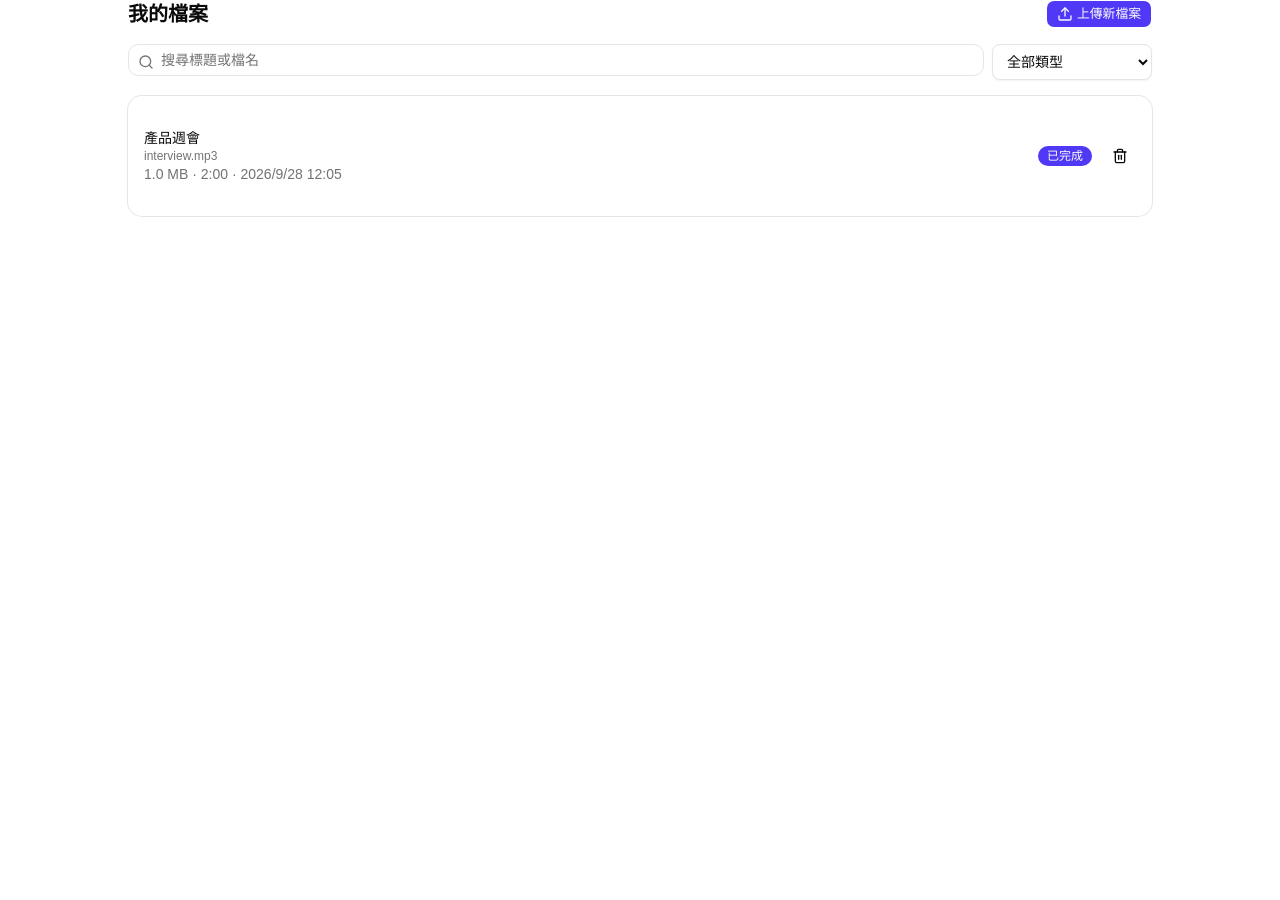
Test: JobsPage › dates each job the way the rest of the page reads (year/month/day, no seconds), and deletes it by the name shown
Expected: the link "產品週會" reads "產品週會 interview.mp3 1.0 MB · 2:00 · 2026/9/28 12:05", [144,130,342,182]
Click the button named "刪除" at (1120, 156), box [1104,140,1136,172]
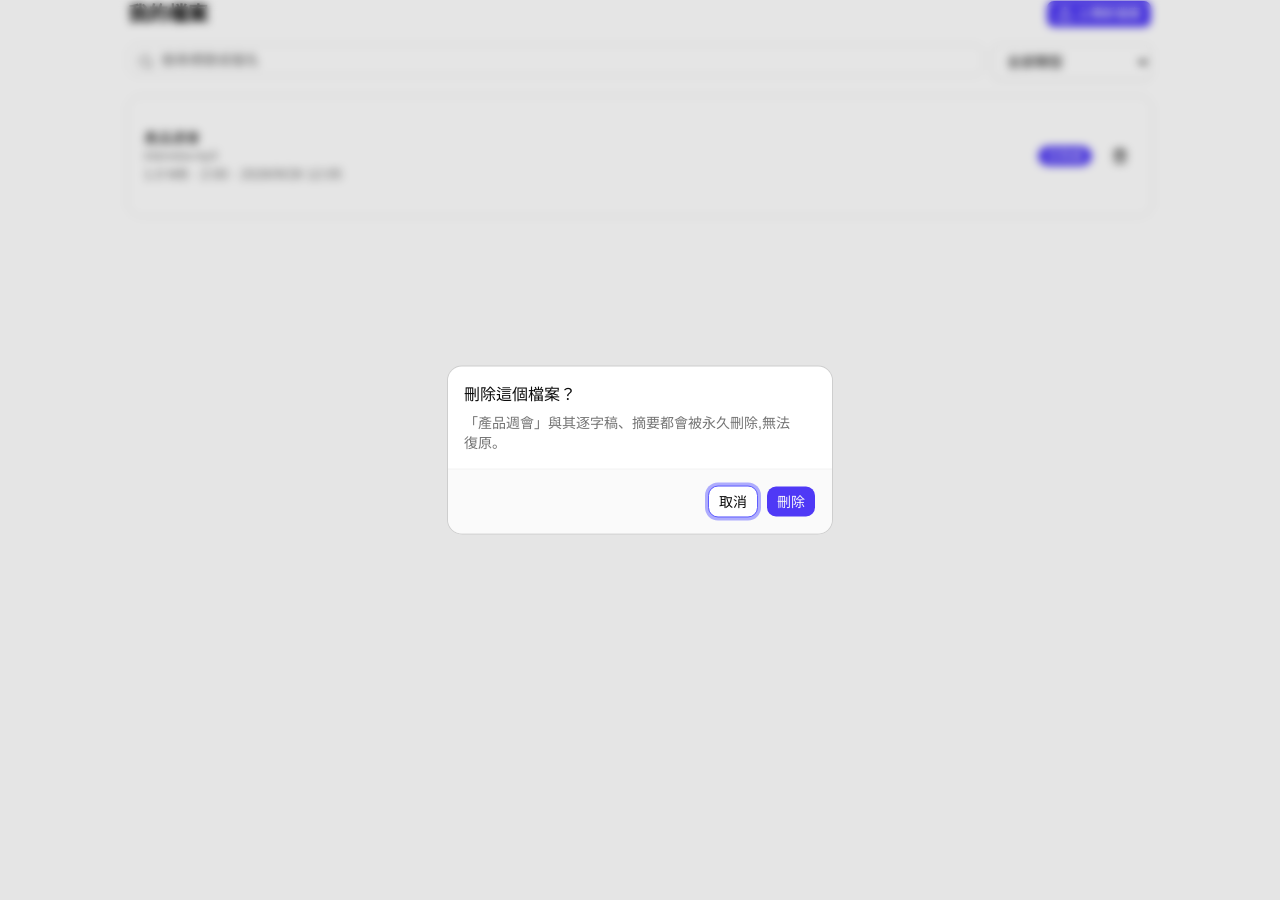
Expected: the dialog shows "「產品週會」", [448,366,832,534]
